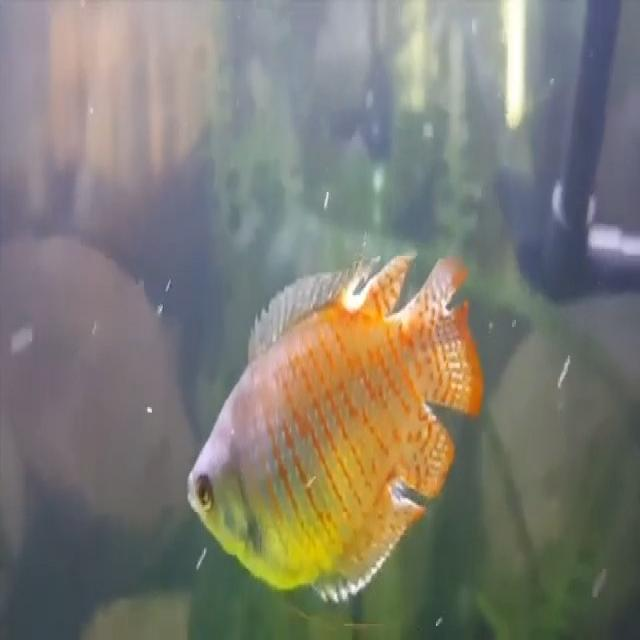fish: (187, 254, 485, 599)
